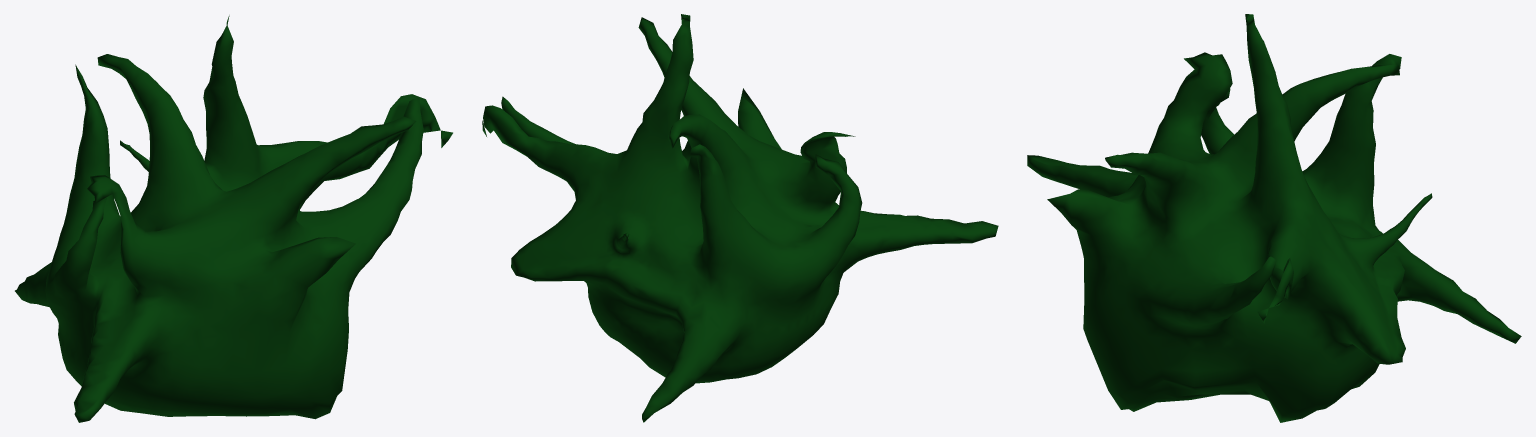
File: jump_cthulhu_002.obj
The picture shows the model from 3 angles, left to right: view 1: azimuth 30°, elevation 25°; view 2: azimuth 150°, elevation 25°; view 3: azimuth 270°, elevation 25°; orthographic projection. The views are drawn at different scales.
Visible parts, largest first — view 1: Cube; view 2: Cube; view 3: Cube.
Boxes of the visible parts, <box> form: Cube: <box>15,15,452,422</box>; Cube: <box>482,14,998,422</box>; Cube: <box>1027,14,1521,422</box>.
Bounding box in the file's own units: 1.28 × 0.9484 × 1.08.
